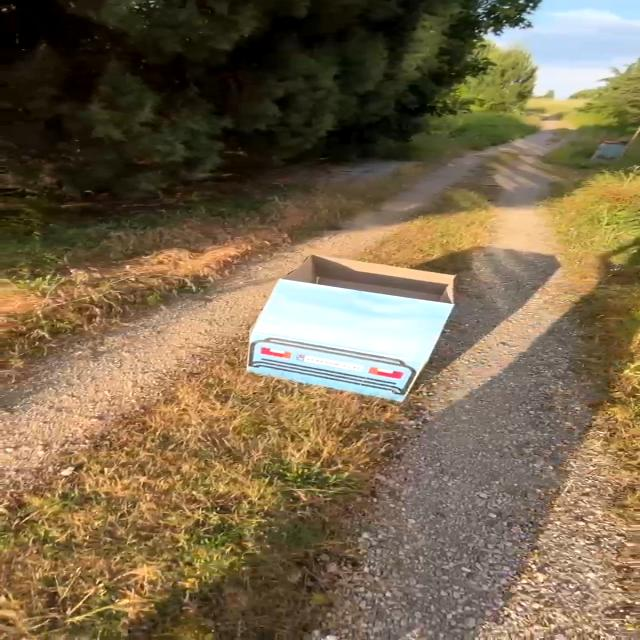blue_car: (229, 214, 491, 430)
